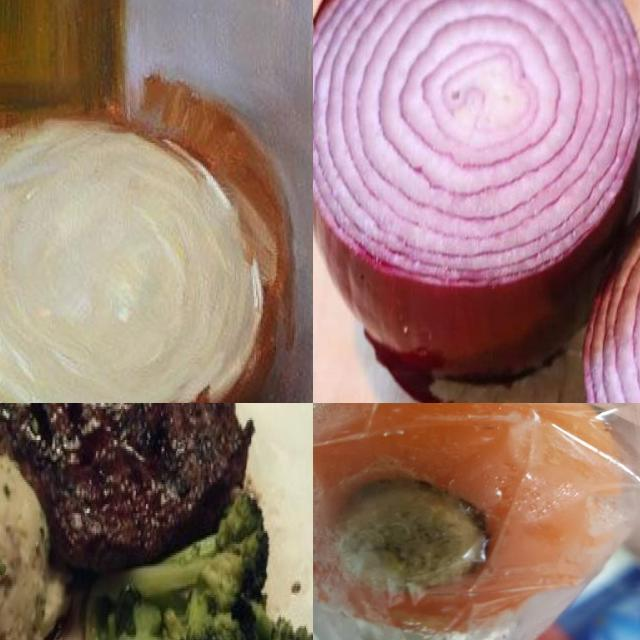carrot: (314, 404, 622, 634)
onion: (314, 1, 640, 385), (1, 110, 275, 404)
